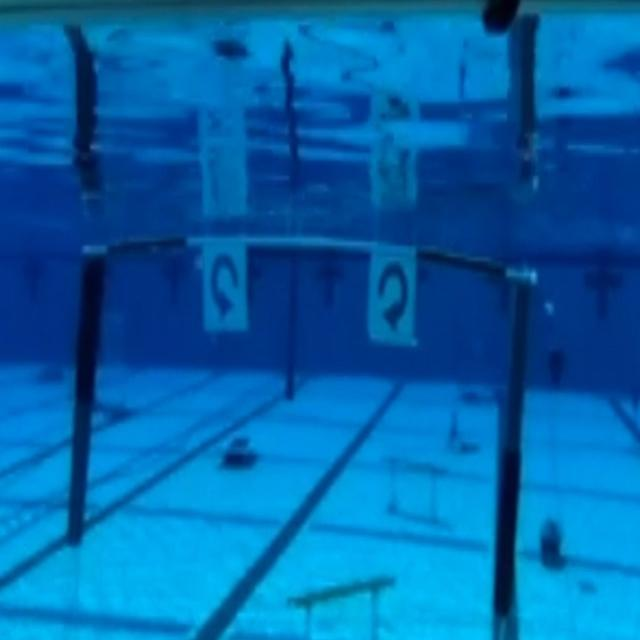Gate: (73, 238, 524, 614)
